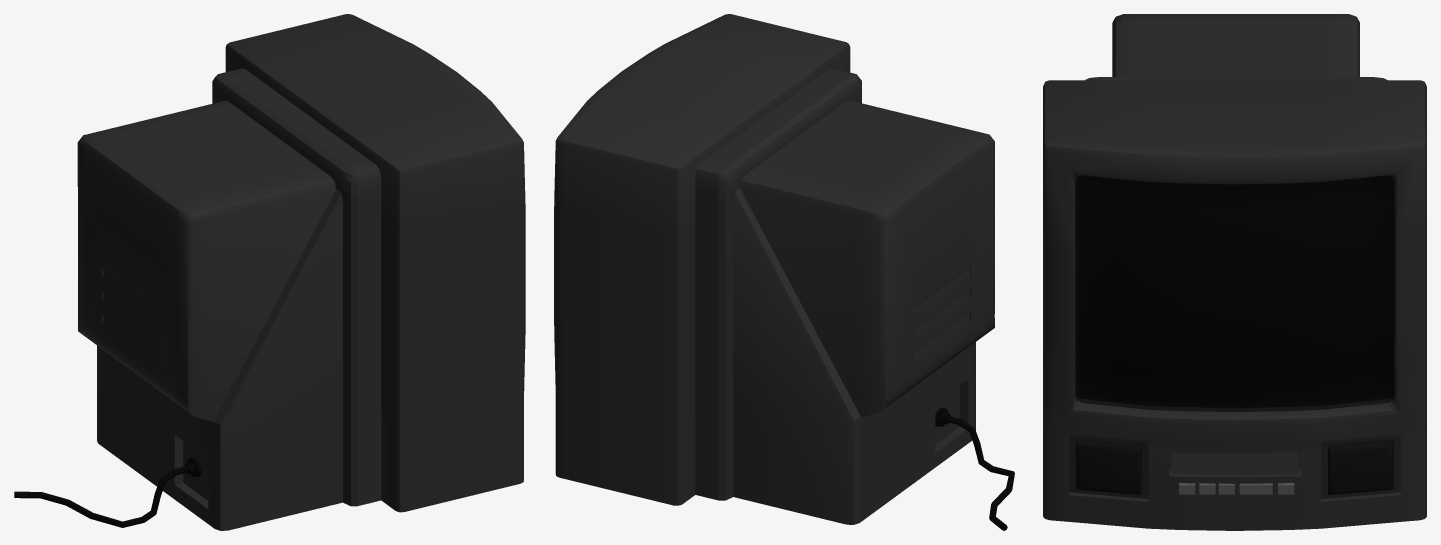
The model's file is TV_CRT_07.glb.
3 renders of one model, left to right at view 1: azimuth 30°, elevation 25°; view 2: azimuth 150°, elevation 25°; view 3: azimuth 270°, elevation 25°, orthographic. The views are drawn at different scales.
Parts seen in each view (by area): view 1: Mesh_TV_CRT_07; view 2: Mesh_TV_CRT_07; view 3: Mesh_TV_CRT_07.
Part boxes in pixels (x1,y1,x2,y2): Mesh_TV_CRT_07: [14, 14, 525, 530]; Mesh_TV_CRT_07: [554, 14, 1014, 530]; Mesh_TV_CRT_07: [1043, 14, 1426, 530].
Bounding box in the file's own units: 0.8304 × 0.6516 × 0.6.
1 material, 1 textured.
